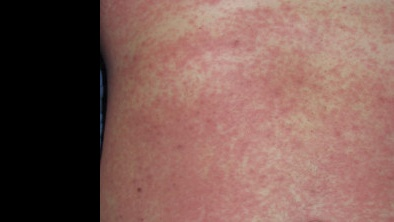SJS-TEN: (101, 1, 394, 222)
